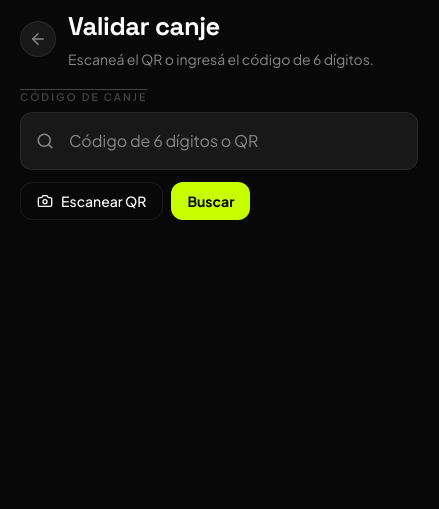
it: CashierRedemptionsView (LB-69) › looks up a redemption by manual code and shows the preview
Type "123456" into the field named "Código de canje" at [219, 141], box [20,112,418,170]
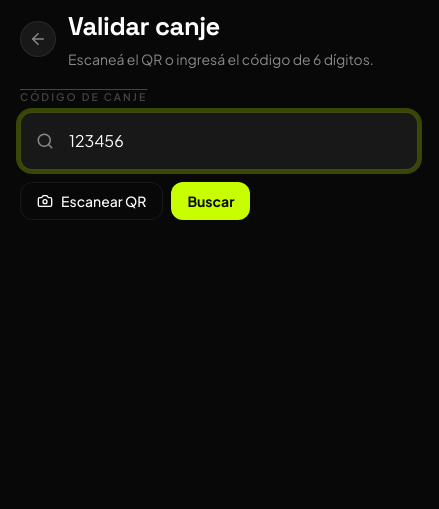
Click the button "Buscar" at [211, 201], box [171,182,250,220]
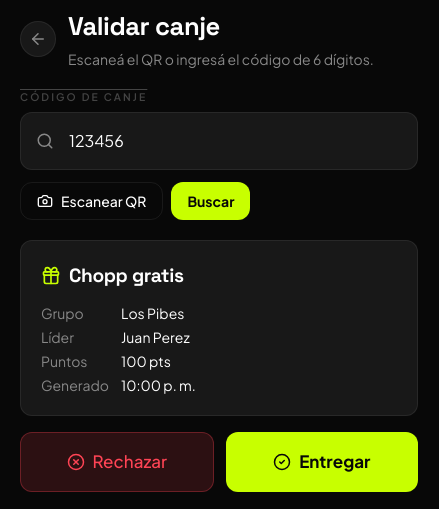
Now the heading "Chopp gratis" is shown, box [69,261,184,291]
Now the text "Los Pibes" is shown, box [121,304,184,322]
Now the text "Juan Perez" is shown, box [121,328,190,346]
